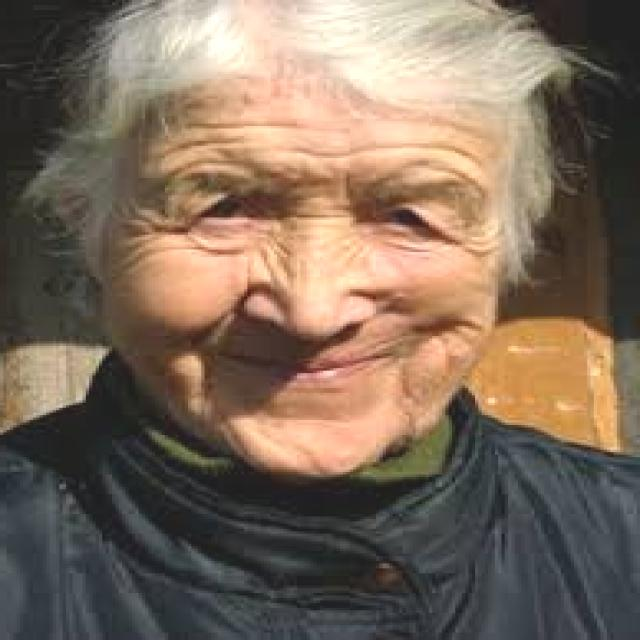normal_face: (52, 34, 573, 520)
